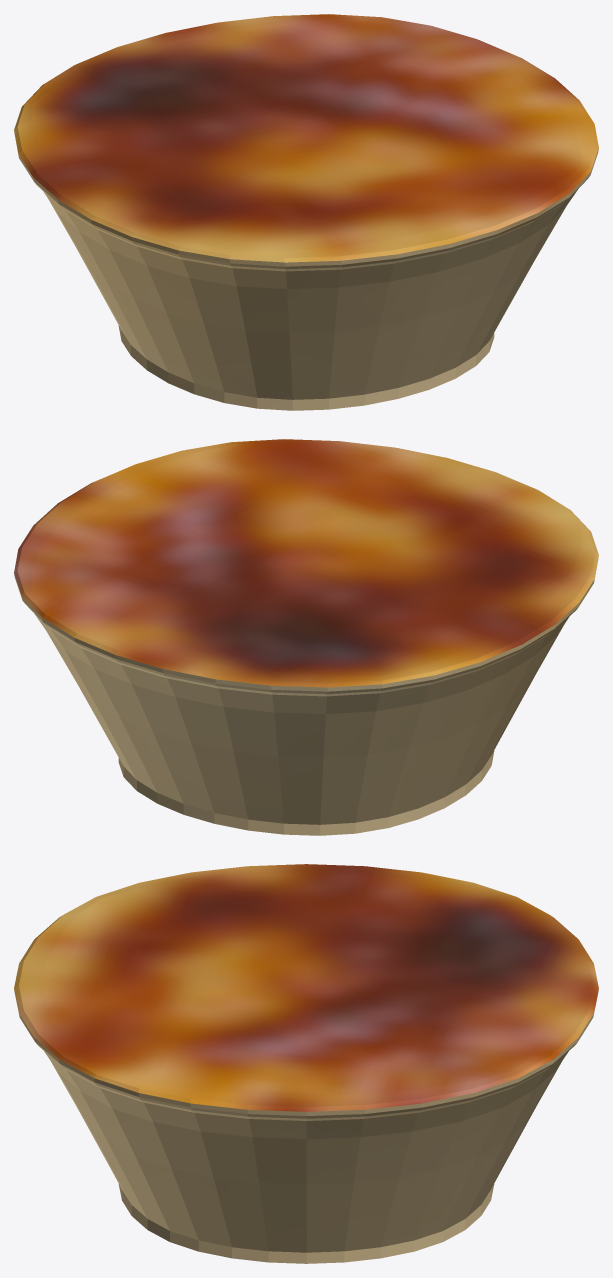
The model's file is AL_Jericalla.fbx.
3 views of the same model, one above another, from view 1: azimuth 30°, elevation 25°; view 2: azimuth 150°, elevation 25°; view 3: azimuth 270°, elevation 25° (orthographic).
Visible parts, largest first — view 1: Plane; view 2: Plane; view 3: Plane.
Part boxes in pixels (bbox=[...]): Plane: bbox=[14, 14, 598, 410]; Plane: bbox=[14, 439, 598, 835]; Plane: bbox=[14, 864, 598, 1263].
Size of the model in its own units: 0.2139 by 0.0812 by 0.2139.
